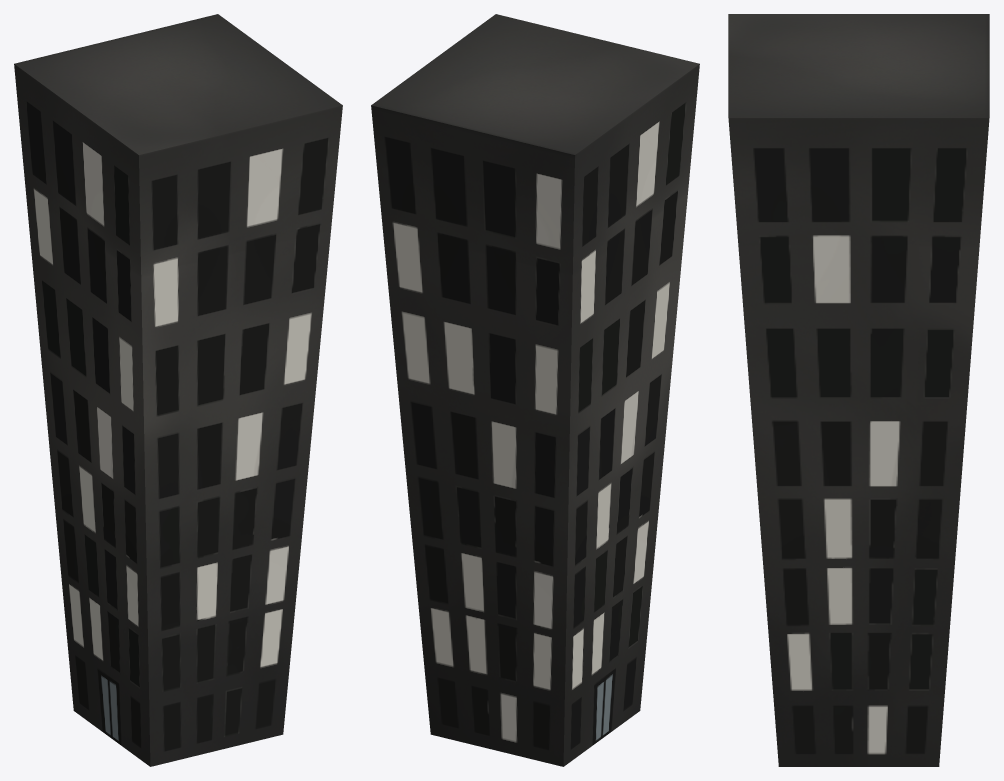
The model's file is Skyscraper_Object.fbx.
3 renders of one model, left to right at view 1: azimuth 30°, elevation 25°; view 2: azimuth 150°, elevation 25°; view 3: azimuth 270°, elevation 25°, orthographic. The views are drawn at different scales.
Visible parts, largest first — view 1: Skyscraper_Object; view 2: Skyscraper_Object; view 3: Skyscraper_Object.
Part boxes in pixels (left/top/right/bottom): Skyscraper_Object: left=14, top=14, right=342, bottom=766; Skyscraper_Object: left=371, top=14, right=699, bottom=766; Skyscraper_Object: left=728, top=14, right=989, bottom=766.
Size of the model in its own units: 9.03 by 27 by 9.58.
Materials: 1 (1 with a texture image).
